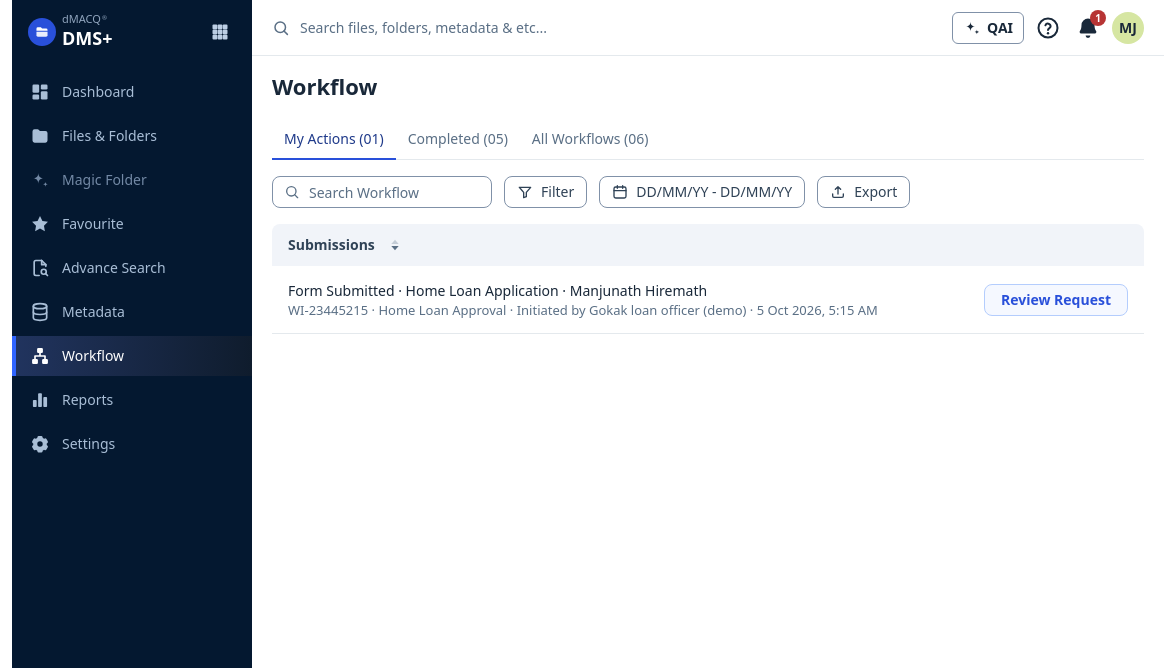
Test case: a row › has Review Request in My Actions, and it opens the review screen of the instance
Click the link "Review Request".
click(1056, 300)  # box [984,284,1128,316]
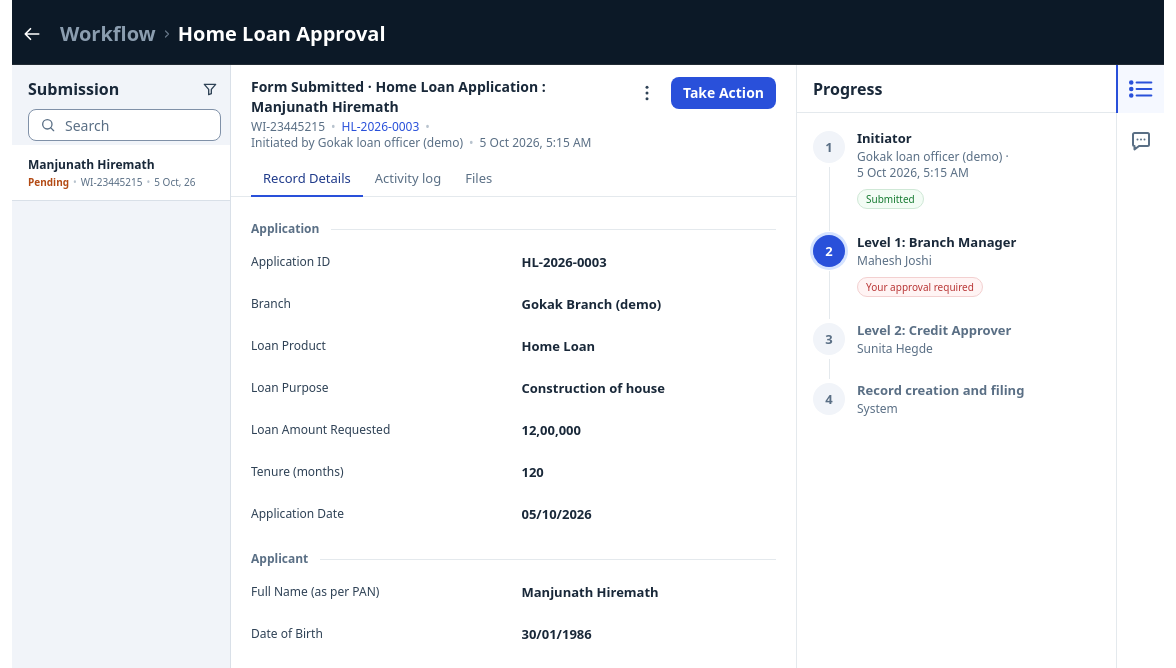
Check: the heading "Form Submitted · Home Loan Application : Manjunath Hiremath" is shown, box [251,77,546,116]
